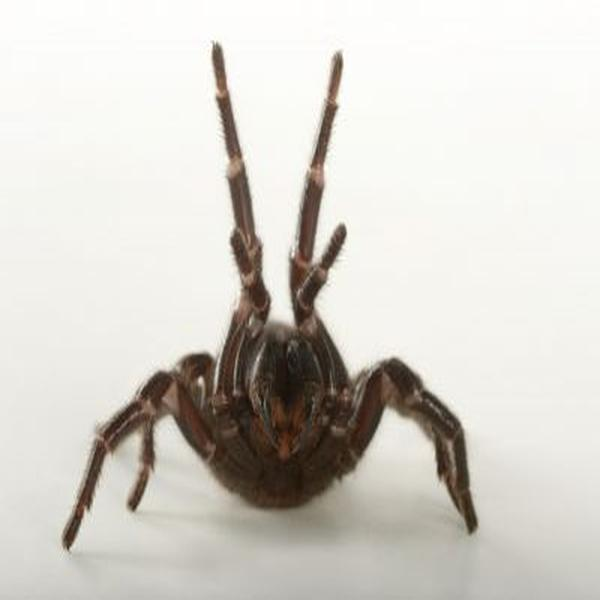Funnel Web Spider: (67, 43, 476, 541)
